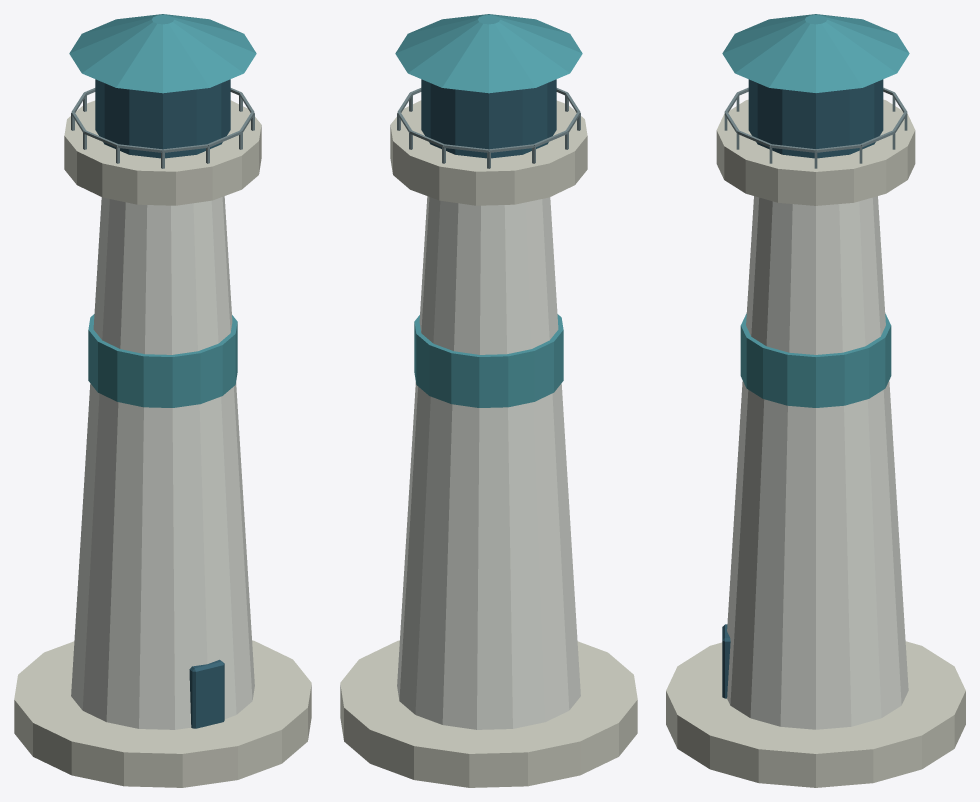
The model's file is lighthouse.glb.
The picture shows the model from 3 angles, left to right: view 1: azimuth 30°, elevation 25°; view 2: azimuth 150°, elevation 25°; view 3: azimuth 270°, elevation 25°; orthographic projection.
Visible parts, largest first — view 1: Cone.001, Cone, Cone.002, Cone.005, Cube; view 2: Cone.001, Cone, Cone.002, Cone.005, Cube; view 3: Cone.001, Cone, Cone.002, Cone.005, Cube.
Boxes of the visible parts, x1,y1,x2,y2 form: Cone.001: (71, 196, 254, 729); Cone: (14, 100, 311, 787); Cone.002: (69, 14, 256, 407); Cone.005: (95, 79, 230, 728); Cube: (71, 88, 254, 168); Cone.001: (397, 196, 580, 729); Cone: (340, 100, 637, 787); Cone.002: (395, 14, 582, 407); Cone.005: (421, 79, 556, 158); Cube: (397, 88, 580, 168); Cone.001: (727, 196, 908, 729); Cone: (666, 99, 965, 787); Cone.002: (722, 14, 909, 407); Cone.005: (722, 79, 883, 698); Cube: (724, 87, 907, 168).
Size of the model in its own units: 16 by 41.5 by 16.
